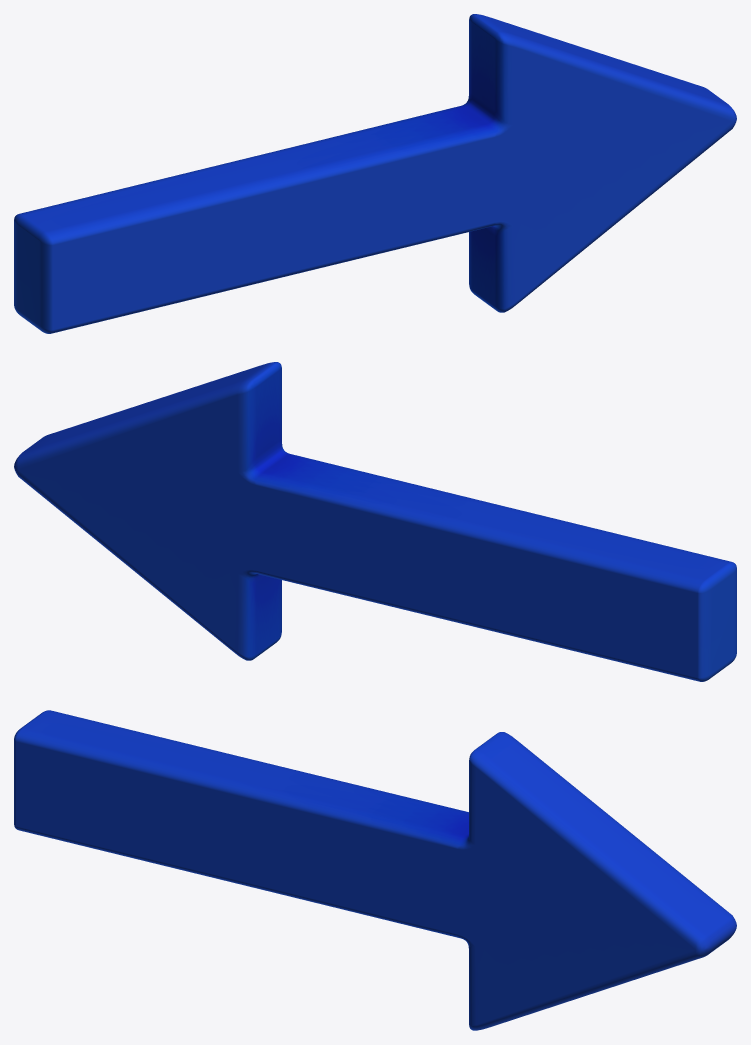
File: velArrow.glb
3 views of the same model, one above another, from view 1: azimuth 30°, elevation 25°; view 2: azimuth 150°, elevation 25°; view 3: azimuth 330°, elevation 25° (orthographic).
Visible parts, largest first — view 1: node_id30; view 2: node_id30; view 3: node_id30.
Part boxes in pixels (x1=…): node_id30: x1=14, y1=14, x2=736, y2=333; node_id30: x1=14, y1=362, x2=736, y2=681; node_id30: x1=14, y1=710, x2=736, y2=1030.
Size of the model in its own units: 0.512 by 0.1973 by 0.048.
1 material, 1 textured.
